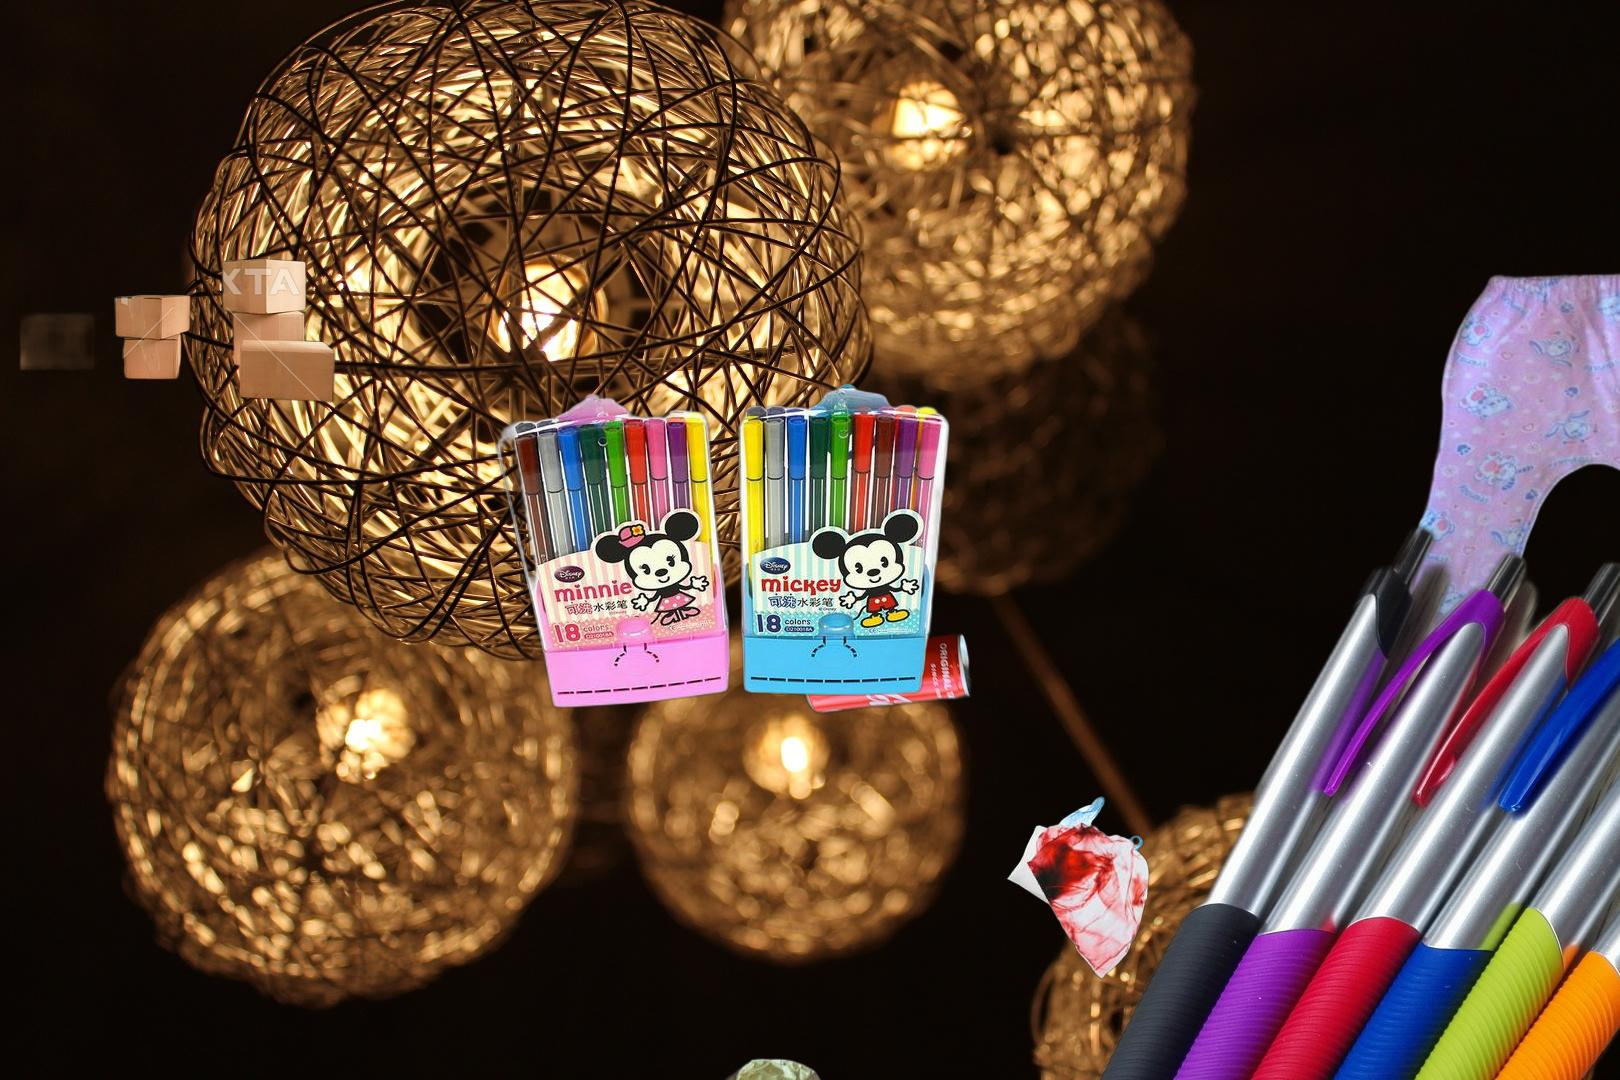clothes: (1399, 251, 1620, 667), (540, 1053, 947, 1080)
metal-cans: (799, 626, 976, 720)
penholder: (1031, 469, 1620, 1080), (493, 378, 953, 711)
plastic-bag: (1004, 793, 1150, 980)
trashbox-cardboard: (16, 256, 337, 405)
